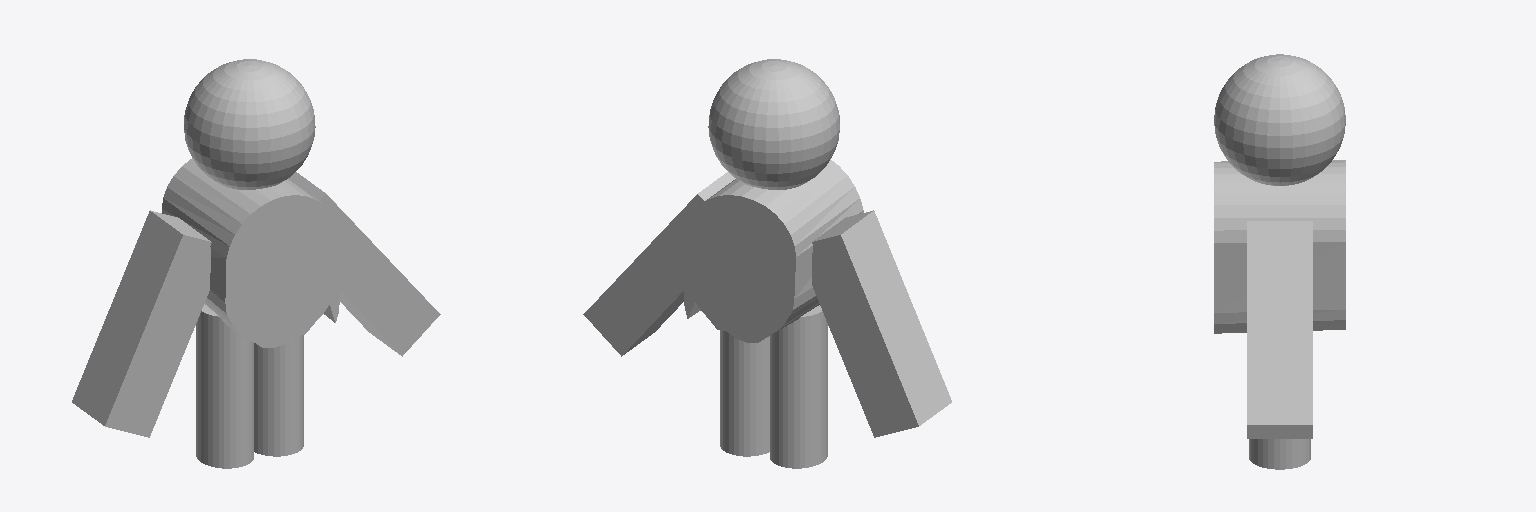
The model's file is Figurine41.obj.
3 views of the same model, side by side, from view 1: azimuth 30°, elevation 25°; view 2: azimuth 150°, elevation 25°; view 3: azimuth 270°, elevation 25° (orthographic).
Visible parts, largest first — view 1: Cylinder; view 2: Cylinder; view 3: Cylinder.
Boxes of the visible parts, x1=… form: Cylinder: x1=72, y1=59, x2=440, y2=468; Cylinder: x1=583, y1=59, x2=951, y2=468; Cylinder: x1=1214, y1=54, x2=1345, y2=469.
Size of the model in its own units: 5.86 by 6.42 by 2.